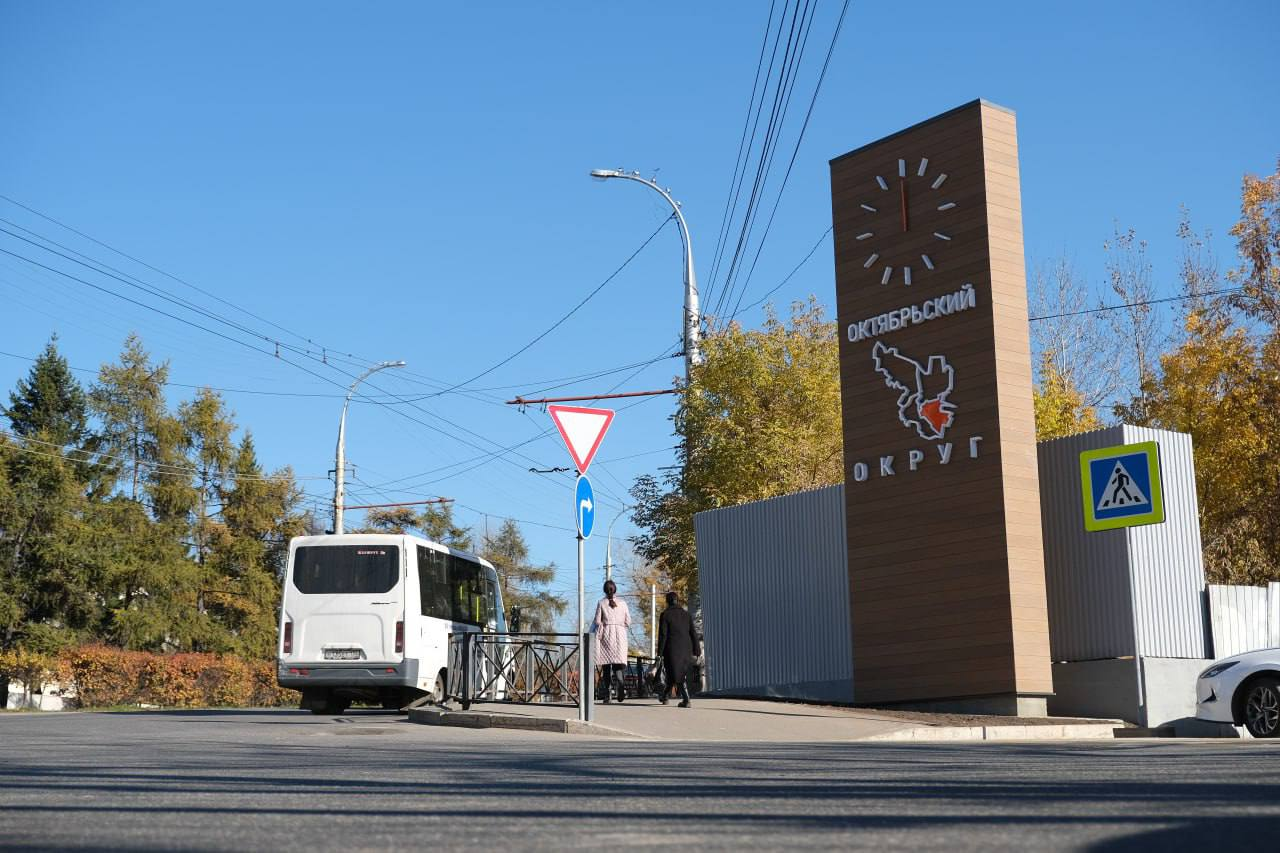sign: (1073, 439, 1170, 531), (545, 399, 617, 473), (564, 473, 604, 539)
